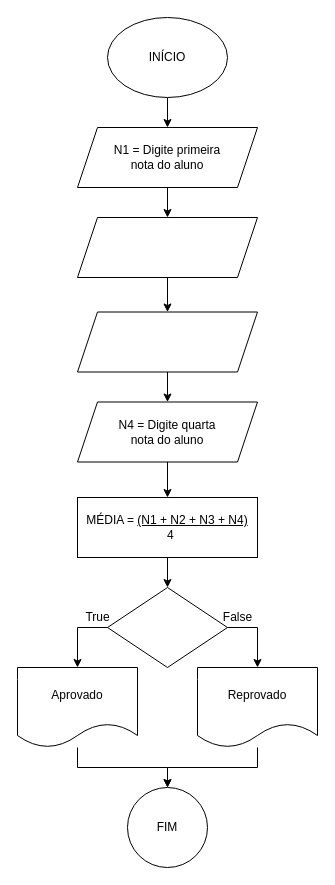
This 335x885 diagram has some shape labels left out. The centre of each missing label's shape, as x and y in pixels:
"MÉDIA >= 7" goes at (x=167, y=627).
"N2 = Digite segunda nota do aluno" goes at (x=167, y=247).
"N3 = Digite terceira nota do aluno" goes at (x=167, y=341).
